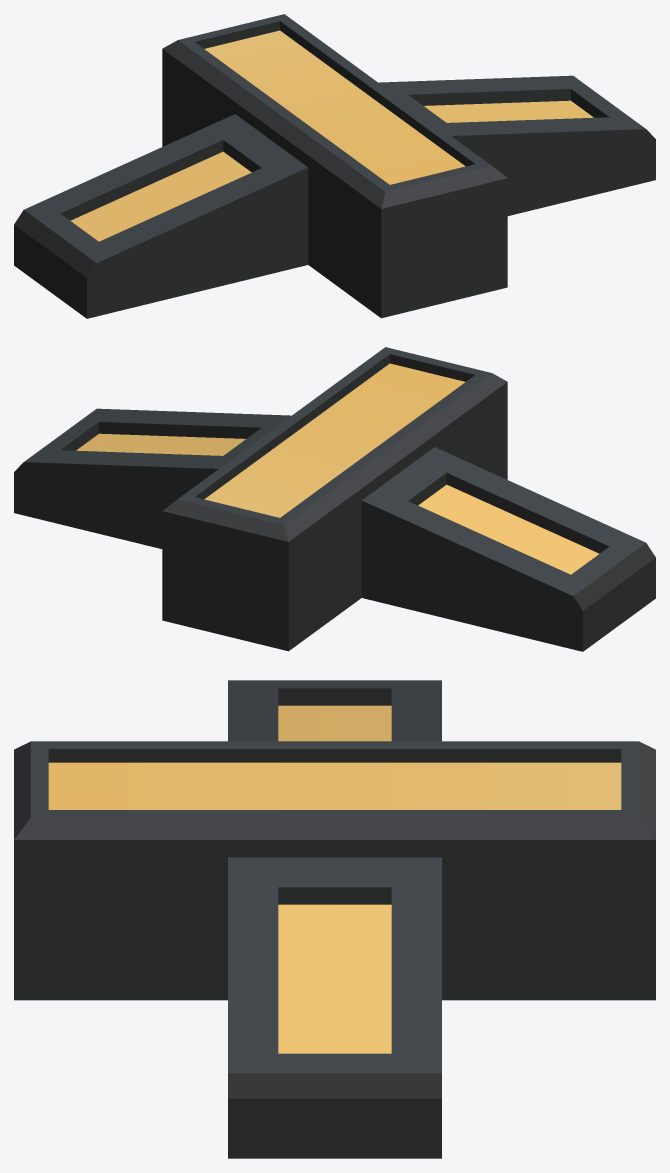
File: LightCross_01.glb
3 renders of one model, top to bottom at view 1: azimuth 30°, elevation 25°; view 2: azimuth 150°, elevation 25°; view 3: azimuth 270°, elevation 25°, orthographic. The views are drawn at different scales.
Parts seen in each view (by area): view 1: LightCross_01; view 2: LightCross_01; view 3: LightCross_01.
Boxes of the visible parts, x1=… form: LightCross_01: x1=14, y1=14, x2=655, y2=318; LightCross_01: x1=14, y1=347, x2=655, y2=651; LightCross_01: x1=14, y1=680, x2=655, y2=1158.
Size of what is drawn, in the model's own units: 3 by 0.6034 by 2.
1 material, 1 textured.
